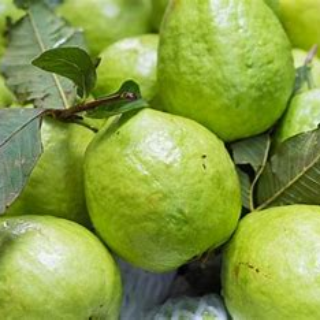oi: (74, 105, 249, 268)
